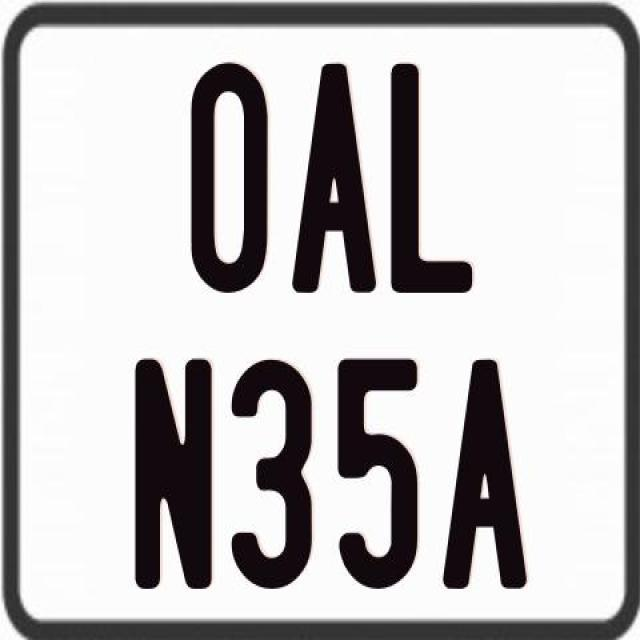0: (190, 59, 270, 299)
3: (232, 357, 312, 592)
5: (337, 354, 419, 588)
A: (442, 356, 534, 590), (291, 59, 378, 293)
L: (390, 64, 478, 301)
N: (134, 358, 220, 589)
